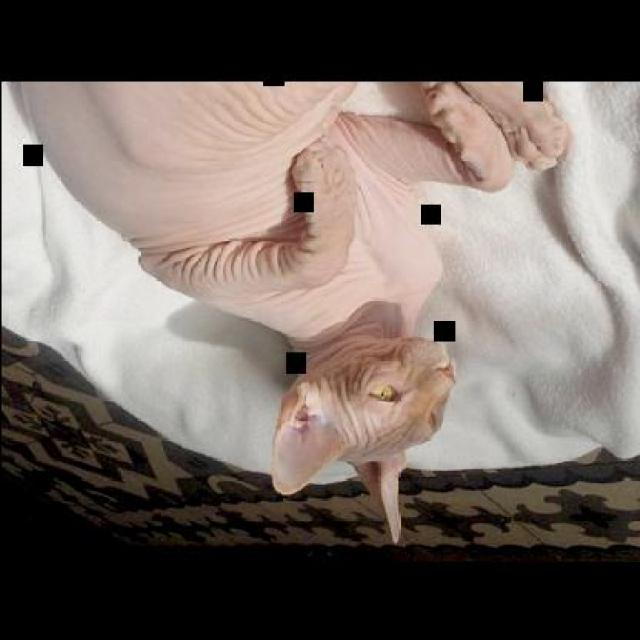unauthorized: (9, 78, 571, 544), (268, 297, 455, 545)
